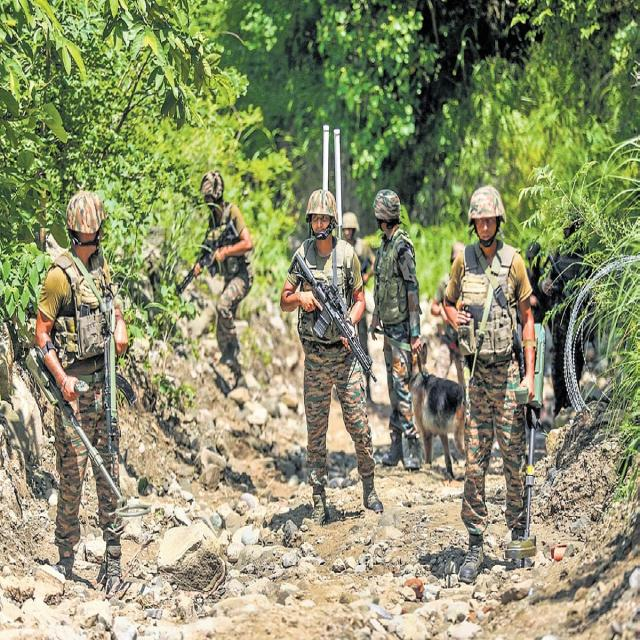Forest: (1, 3, 640, 640)
Militant: (431, 175, 552, 606), (33, 177, 144, 610), (278, 176, 392, 538), (359, 166, 445, 484), (178, 155, 264, 400)
